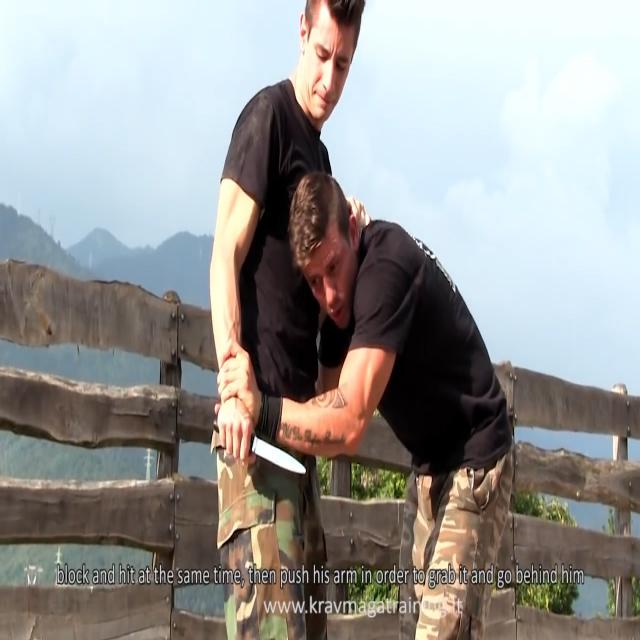knife: (248, 432, 310, 482)
